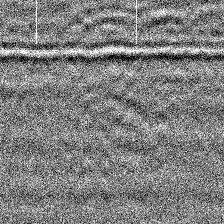Utility: (84, 92, 166, 158)
